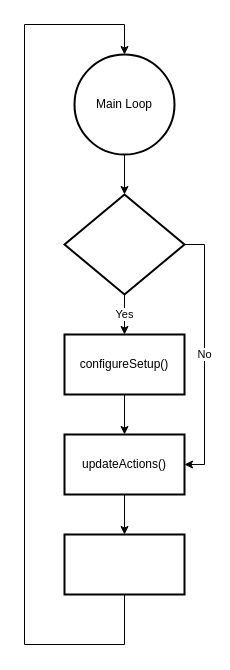
Some shapes in this 230 by 670 pixel diagram are drawn without their labels. Here are the shapes that lost their labels. From the top down, the centre of each, then its label:
point 124,244: If (stringComplete)
point 124,564: serialEvent()
